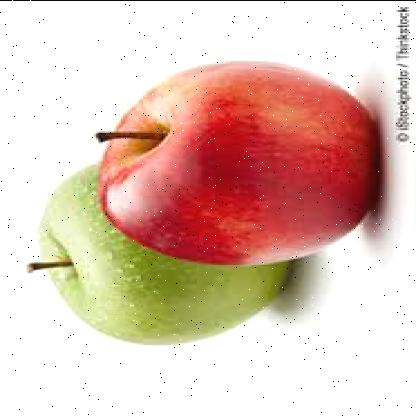apple: (103, 57, 385, 267), (40, 144, 295, 344)
